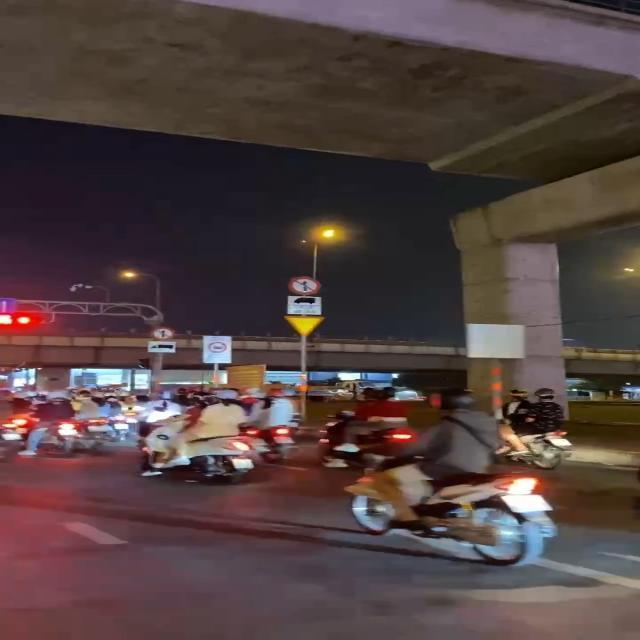136-cam-di-thang: (286, 276, 322, 294), (152, 328, 174, 340)
208-giao-nhau-voi-duong-uu-tien: (282, 314, 326, 336)
